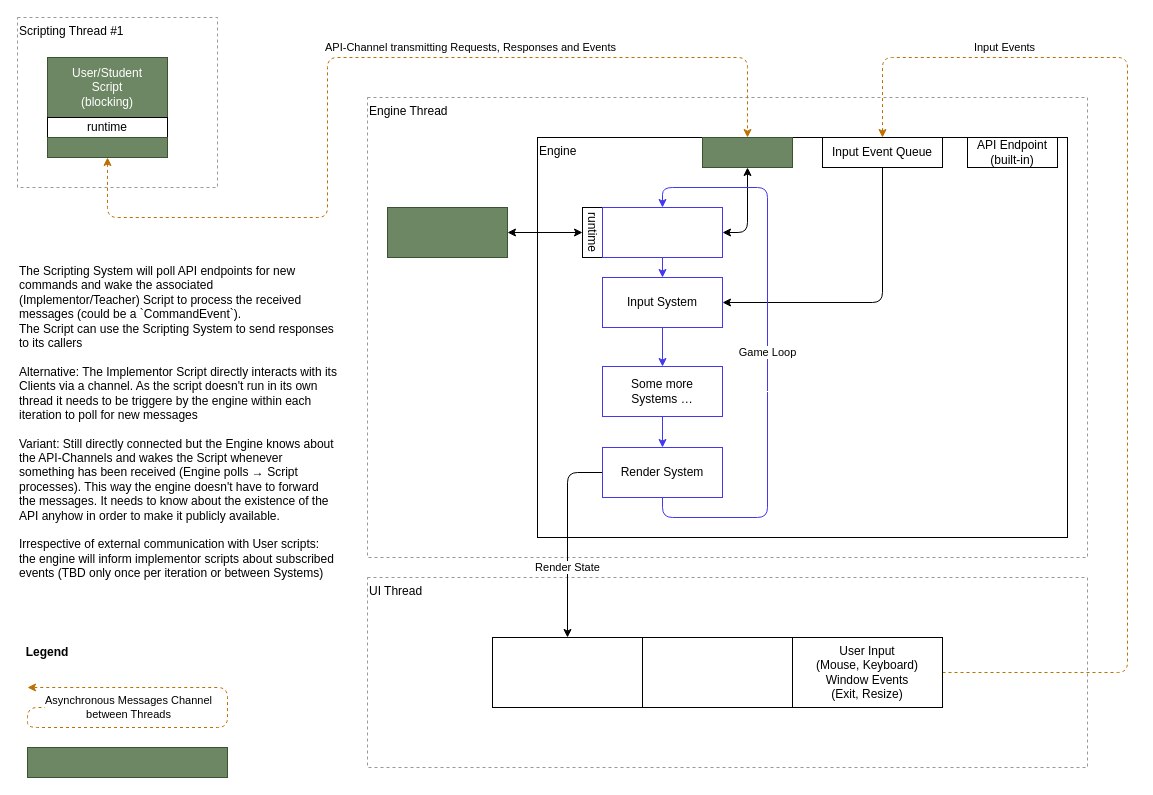
Image size: 1153x795. Some labels were removed from this diagram. The shapes that lost their labels are listed below. From the top down, each one's centre as x and y in pixels, then its label:
At (x=107, y=147): "API Client".
At (x=747, y=152): "API Endpoint (custom)".
At (x=447, y=232): "Implementor/Teacher Script (call-back)".
At (x=662, y=232): "Scripting System".
At (x=567, y=672): "Renderer".
At (x=717, y=672): "Window Message Loop".
At (x=127, y=762): "user-provided item (not part of gam3du)".
